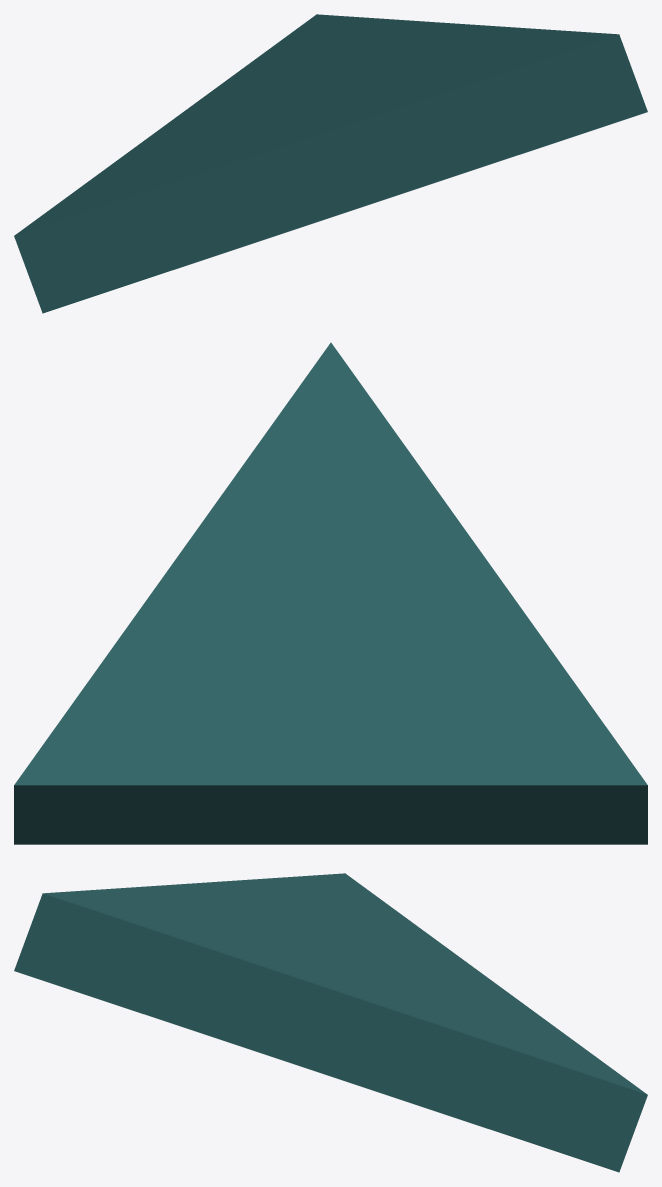
File: button6.glb
3 renders of one model, top to bottom at view 1: azimuth 30°, elevation 25°; view 2: azimuth 150°, elevation 25°; view 3: azimuth 270°, elevation 25°, orthographic. The views are drawn at different scales.
Visible parts, largest first — view 1: Cone.005; view 2: Cone.005; view 3: Cone.005.
Part boxes in pixels (left/top/right/bottom): Cone.005: left=14, top=14, right=647, bottom=313; Cone.005: left=14, top=342, right=647, bottom=844; Cone.005: left=14, top=873, right=647, bottom=1172.
Size of the model in its own units: 0.8382 by 0.4657 by 0.9827.
